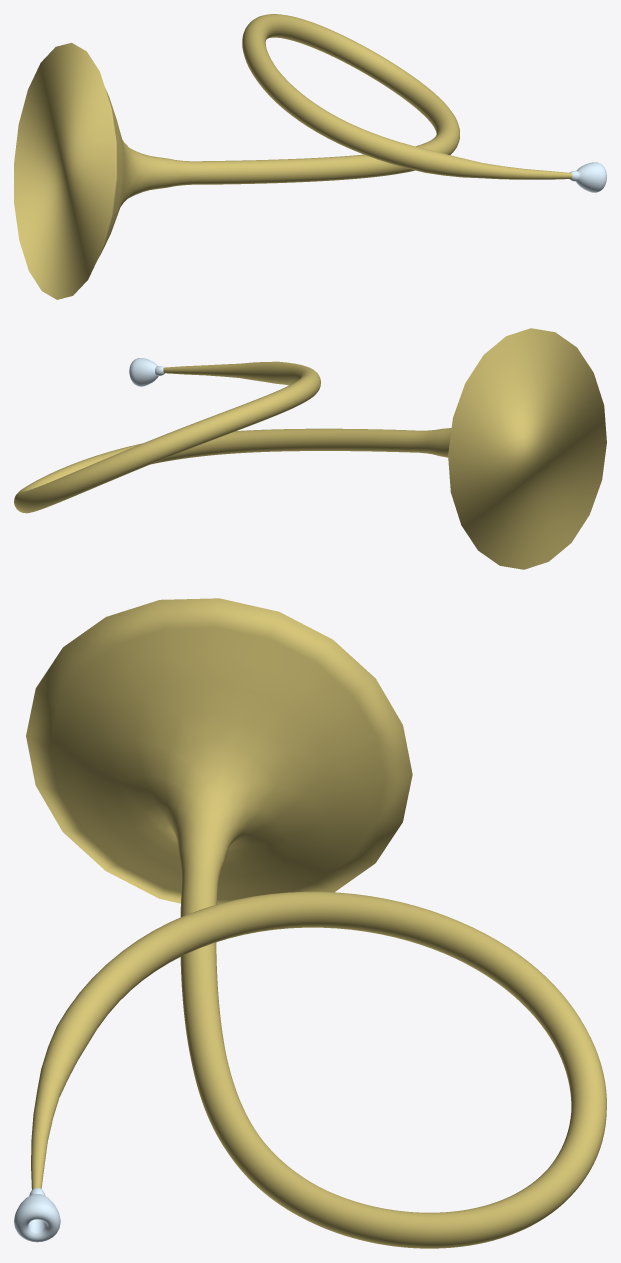
File: alakovic1_POI3truba.fbx
3 views of the same model, one above another, from view 1: azimuth 30°, elevation 25°; view 2: azimuth 150°, elevation 25°; view 3: azimuth 270°, elevation 25° (orthographic). The views are drawn at different scales.
Parts seen in each view (by area): view 1: NurbsPath; view 2: NurbsPath; view 3: NurbsPath.
Boxes of the visible parts, x1=… form: NurbsPath: x1=14, y1=14, x2=606, y2=299; NurbsPath: x1=14, y1=328, x2=606, y2=569; NurbsPath: x1=14, y1=598, x2=606, y2=1248.
Bounding box in the file's own units: 476 × 205 × 317.
